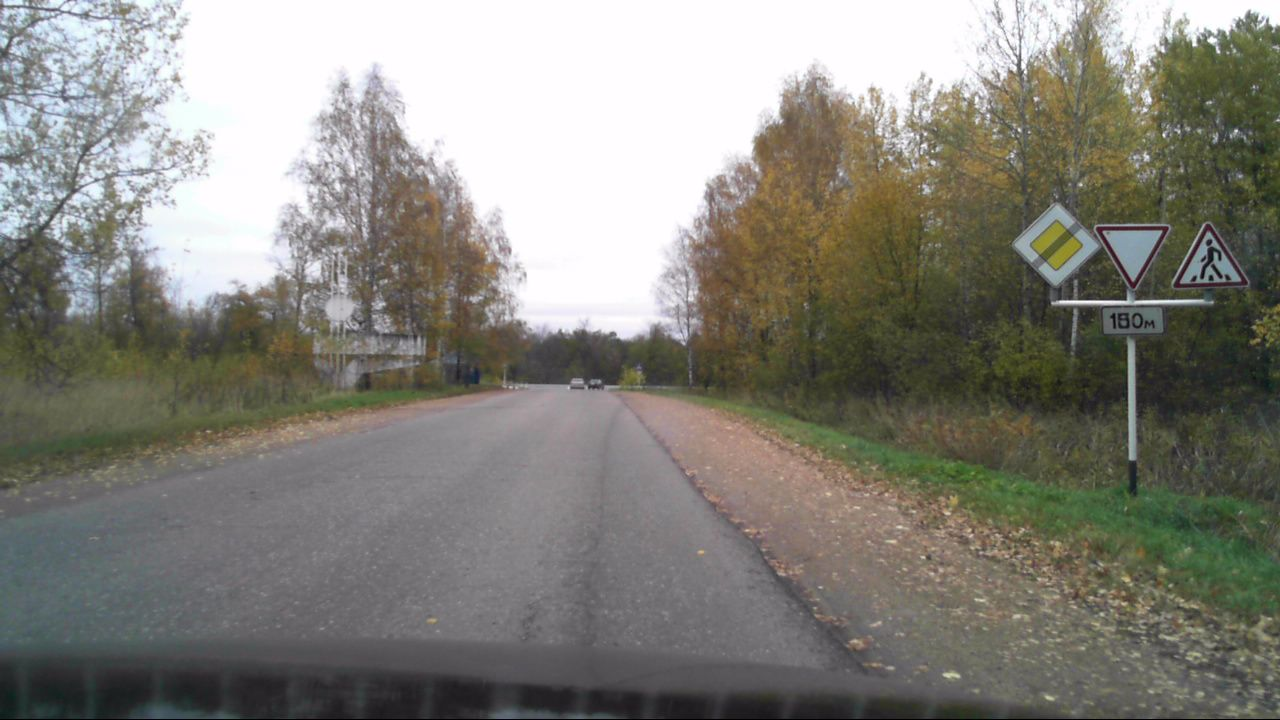main road: (1010, 201, 1099, 289)
